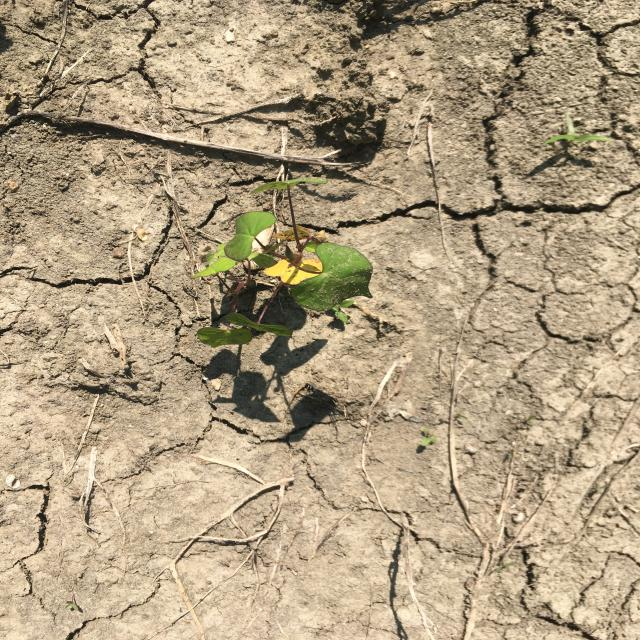MorningGlory: (188, 176, 375, 350)
